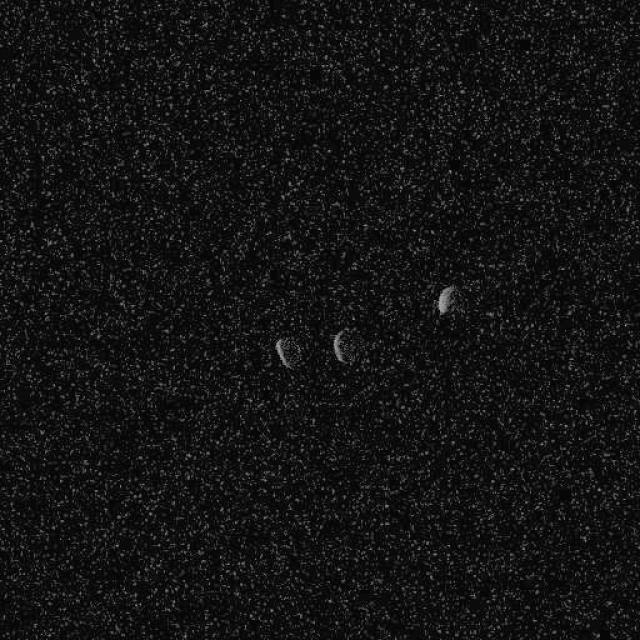D2: (331, 325, 364, 365), (274, 335, 301, 370), (436, 284, 459, 315)
